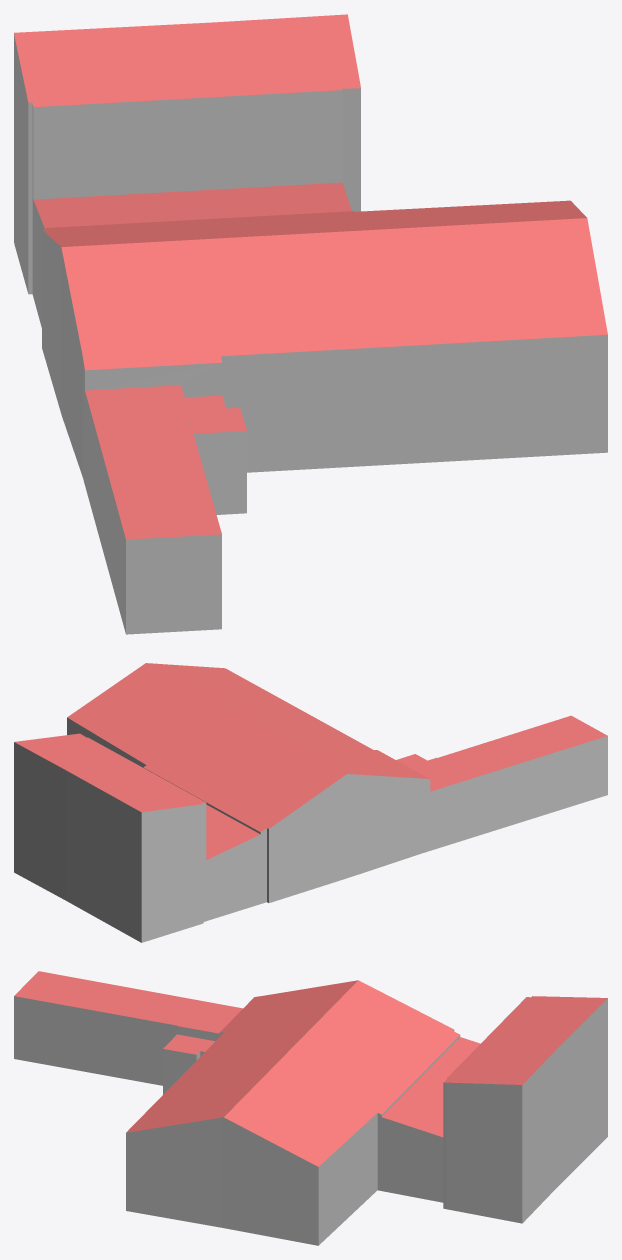
The model's file is DEBY_LOD2_8573598.gltf.
The picture shows the model from 3 angles, top to bottom: view 1: azimuth 30°, elevation 25°; view 2: azimuth 150°, elevation 25°; view 3: azimuth 270°, elevation 25°; orthographic projection. The views are drawn at different scales.
Parts seen in each view (by area): view 1: Z_UP; view 2: Z_UP; view 3: Z_UP.
Boxes of the visible parts, left/top/right/bottom form: Z_UP: left=14, top=14, right=607, bottom=634; Z_UP: left=14, top=663, right=607, bottom=942; Z_UP: left=14, top=971, right=607, bottom=1245.
Size of the model in its own units: 36 by 10.98 by 42.64.
